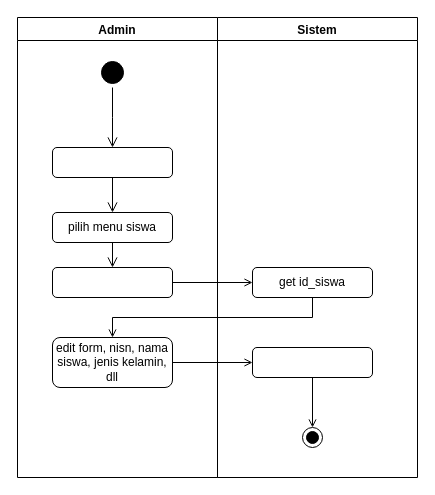
Image size: 435x495. Some labels were removed from this diagram. The shapes that lost their labels are listed below. From the top down, each one's centre as x and y in pixels, then its label:
pixel 112 162: admindashbord
pixel 112 282: edit siswa
pixel 312 362: Berhasil edit siswa
